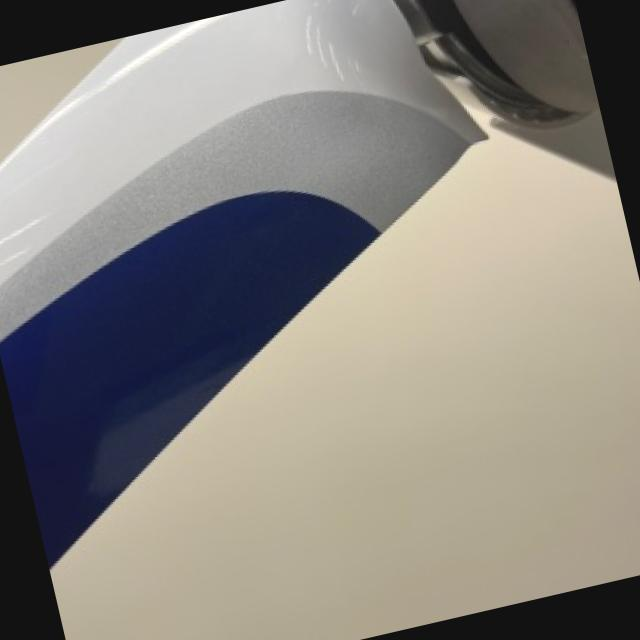healthy: (52, 78, 640, 640)
